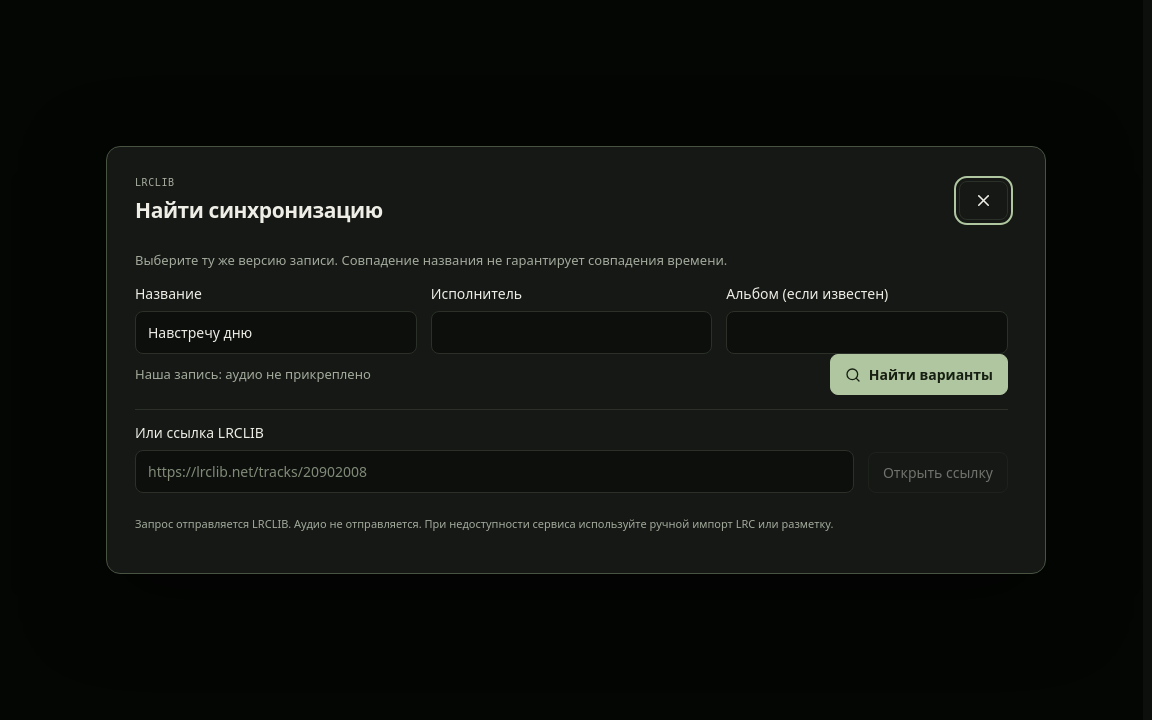
recovers manually after the client timeout without an automatic retry
Click the button "Найти варианты": (919, 375) x1=830 y1=354 x2=1008 y2=395
Wait 15000 ms
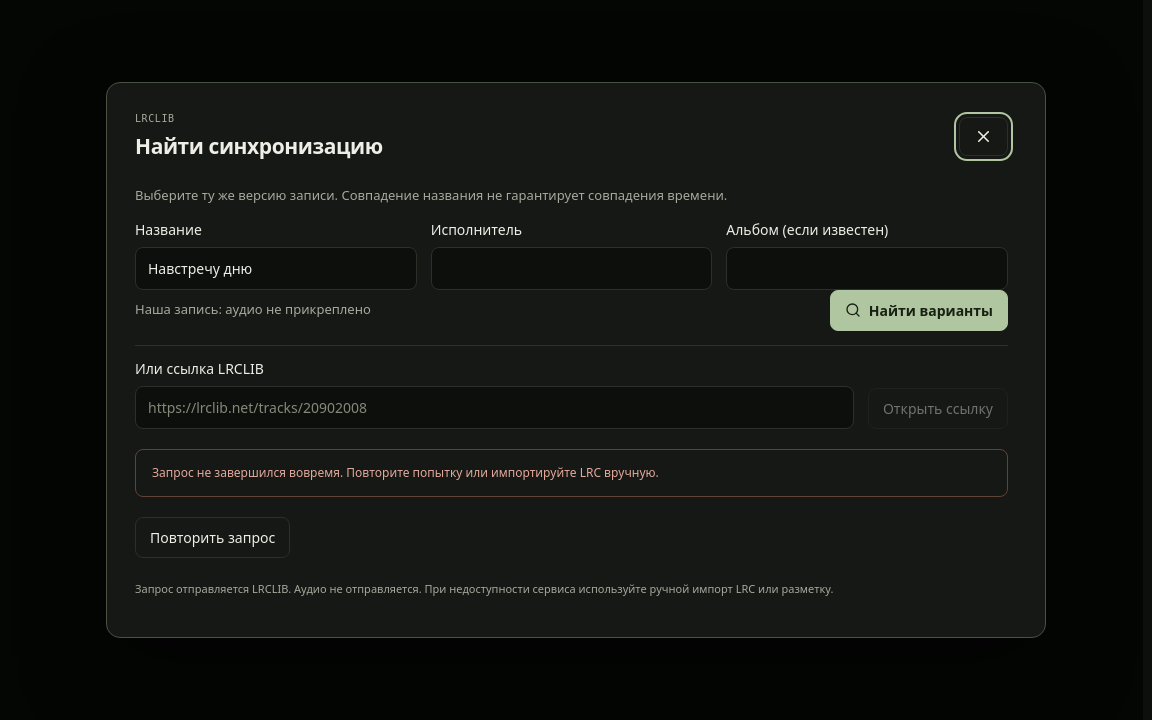
Expected: the message shows "не завершился вовремя", x1=152 y1=464 x2=659 y2=481
Expected: the button "Повторить запрос" is enabled
Click the button "Повторить запрос": (213, 537) x1=135 y1=517 x2=290 y2=558
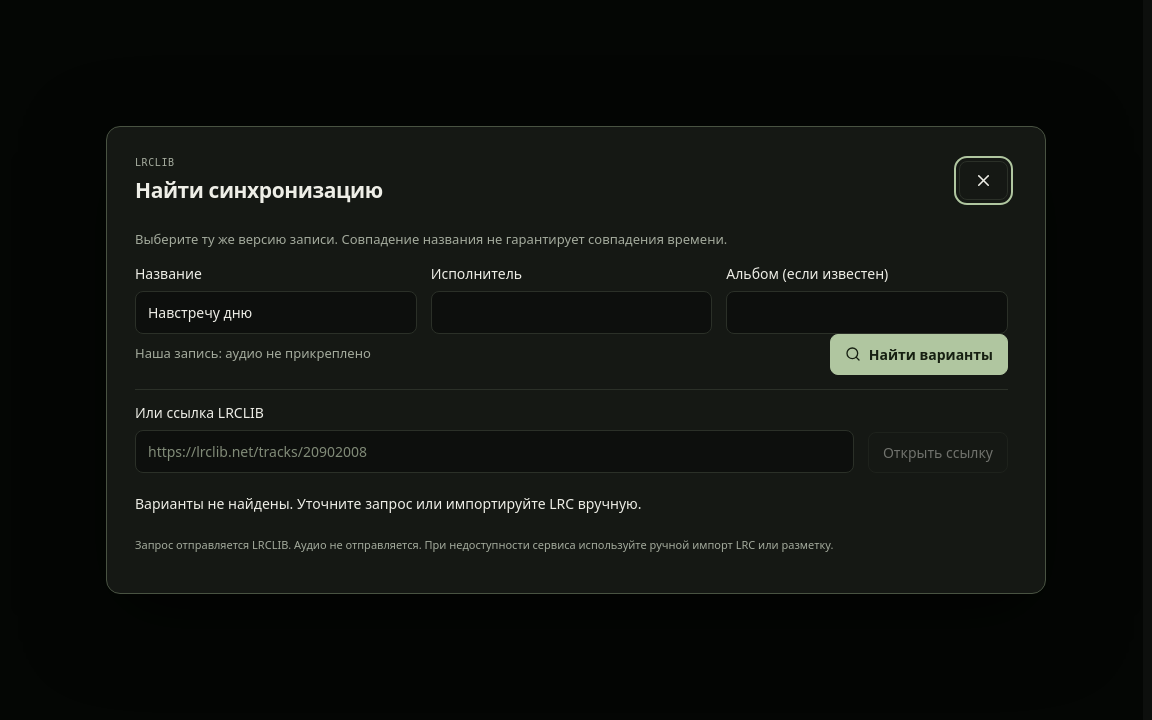
Expected: the text "Варианты не найдены. Уточните запрос или импортируйте LRC вручную." is shown, x1=135 y1=494 x2=642 y2=513
